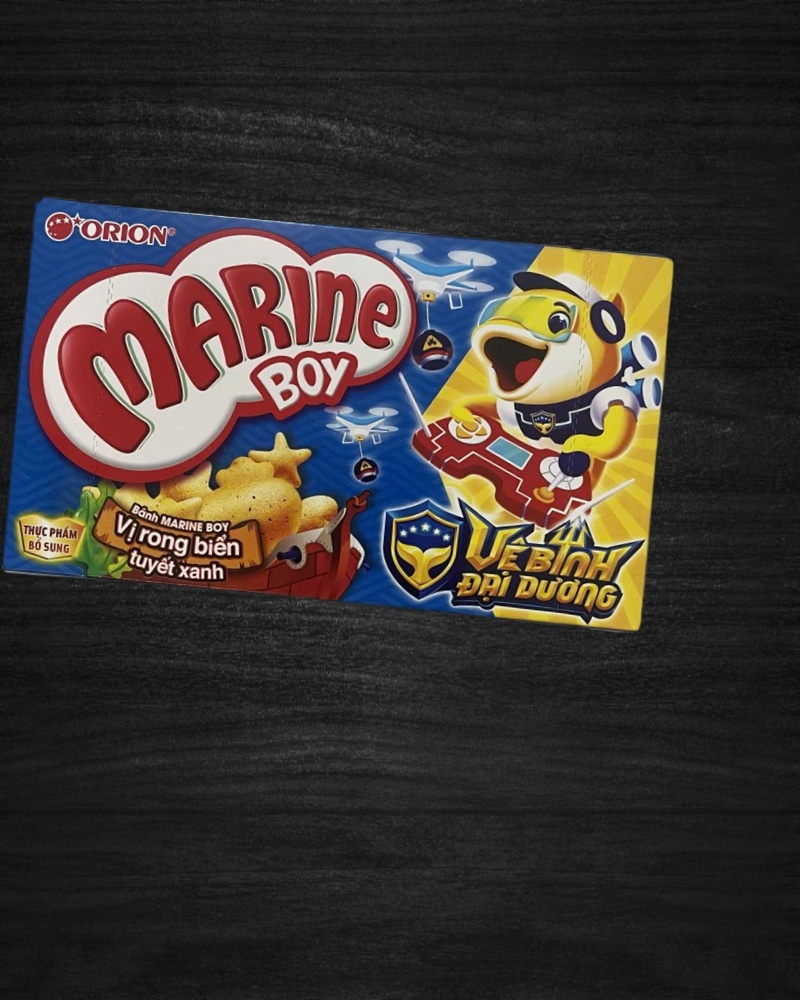Marine: (3, 197, 677, 634)
